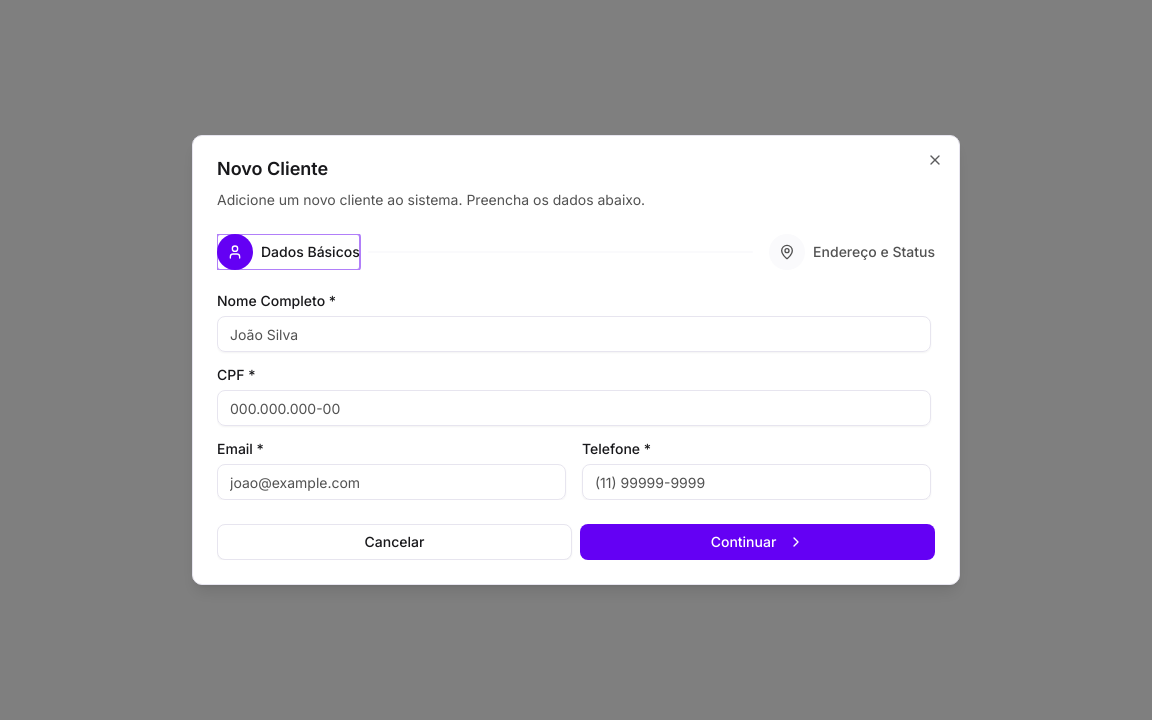
Test case: ClientFormDialog - wizard de passos › does not advance when backend returns validation errors
In the field labelled "Nome Completo *": (574, 334) [217, 316, 931, 352], type "Maria Souza"
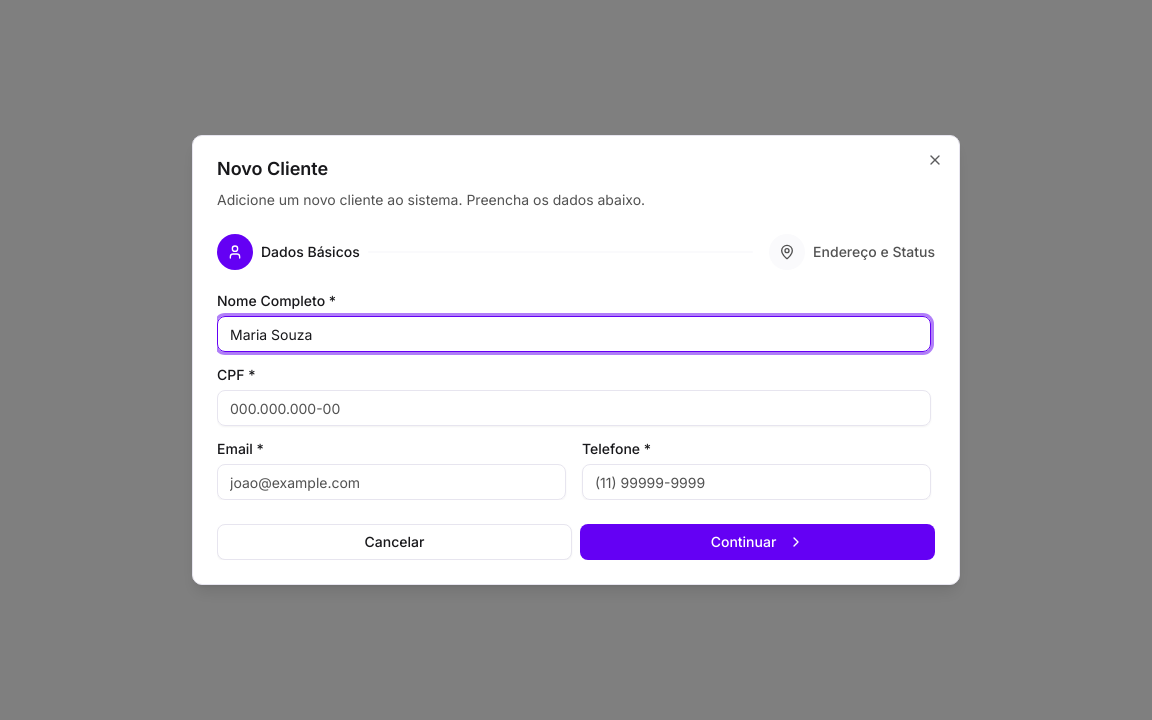
In the field labelled "CPF *": (574, 408) [217, 390, 931, 426], type "52998224725"
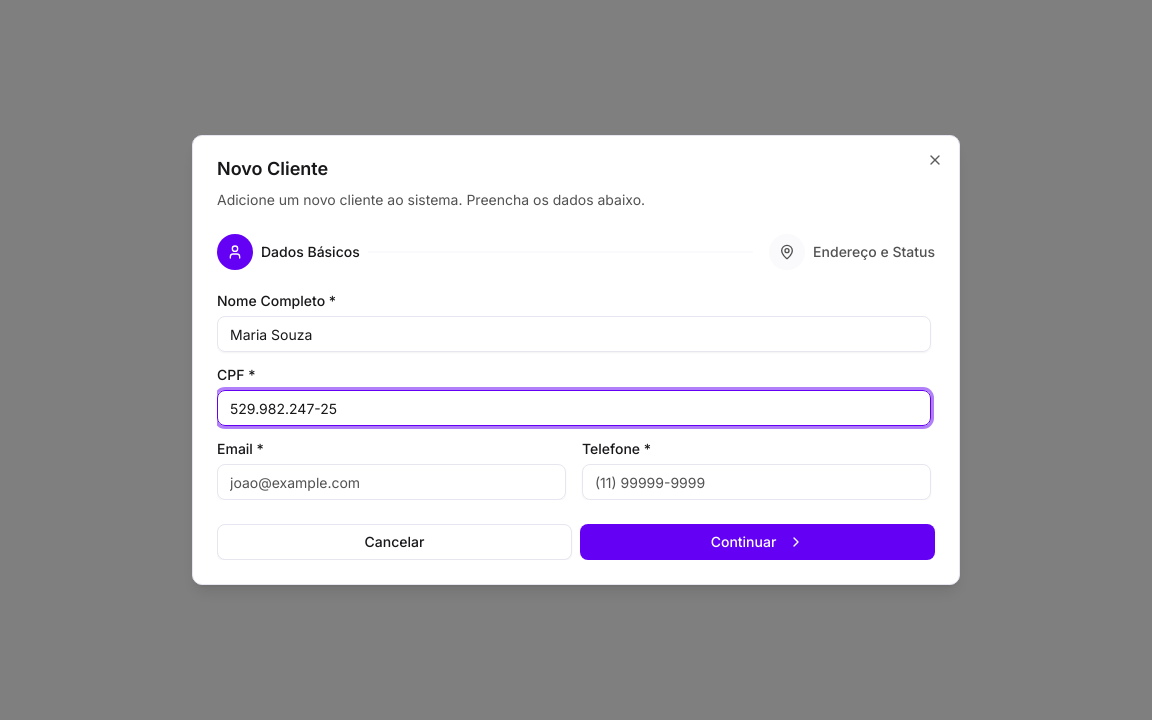
In the field labelled "Email *": (392, 482) [217, 464, 566, 500], type "maria@example.com"
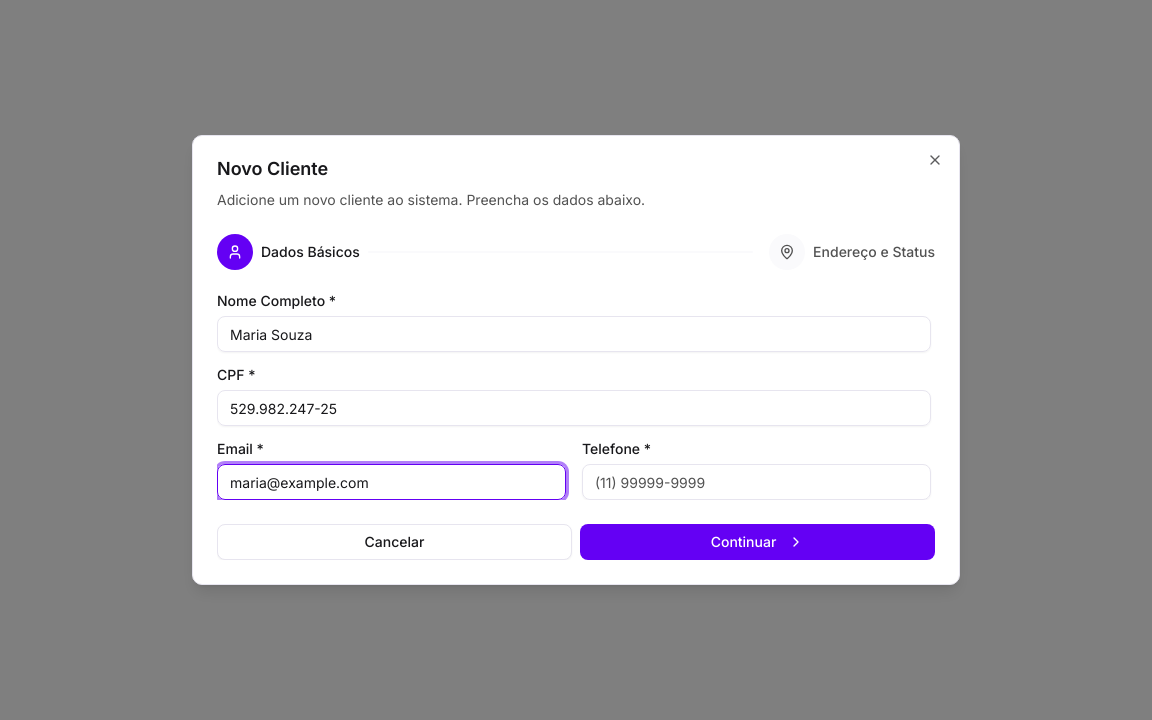
In the field labelled "Telefone *": (756, 482) [582, 464, 931, 500], type "11987654321"
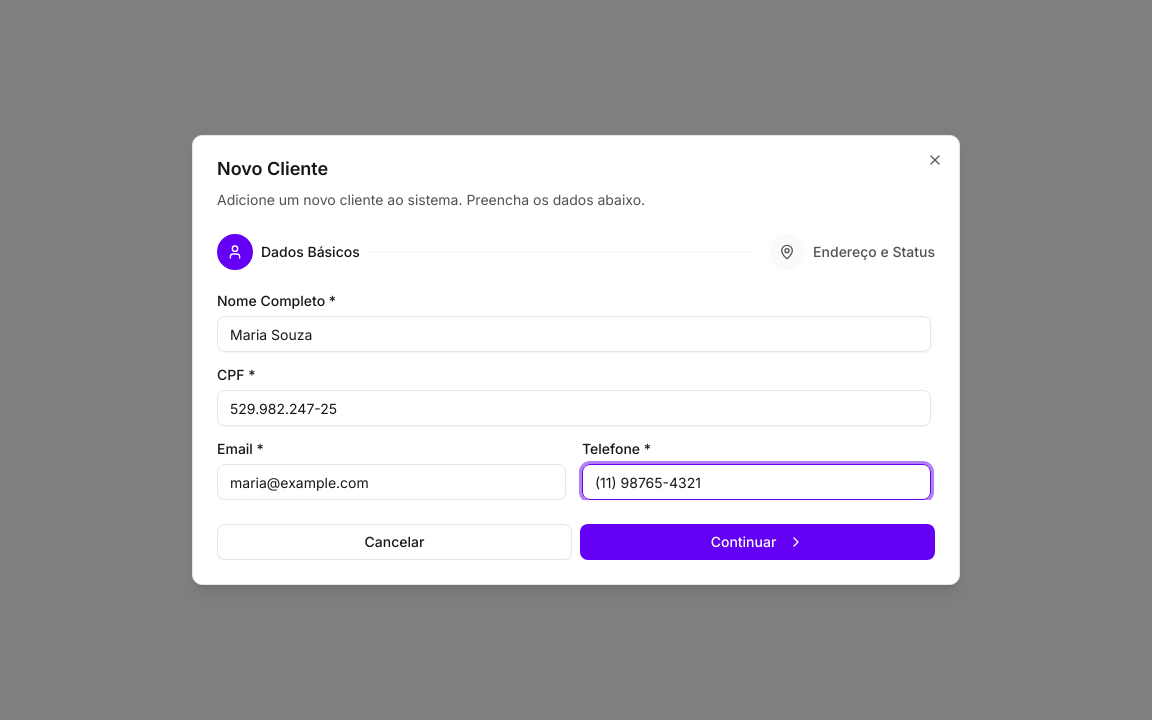
Click the button "Continuar": (758, 542) [580, 524, 935, 560]
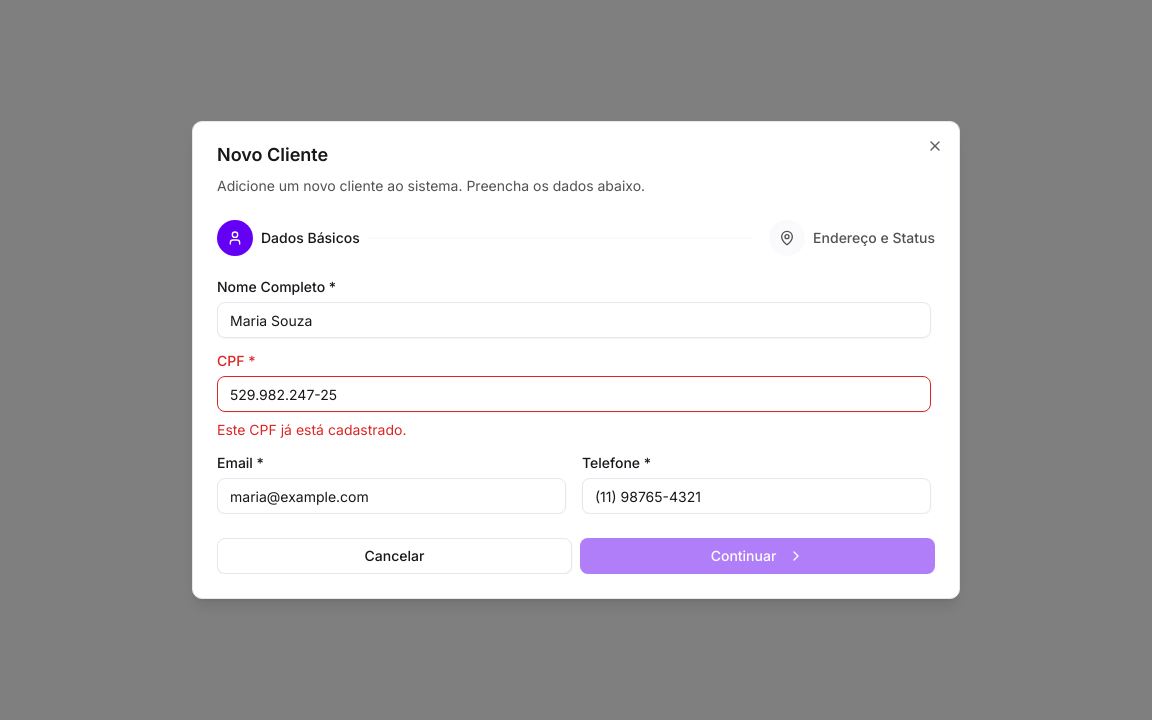
Result: the text "Este CPF já está cadastrado." is shown at [217, 421, 406, 438]
Result: the button "Continuar" is disabled at [580, 538, 935, 574]
